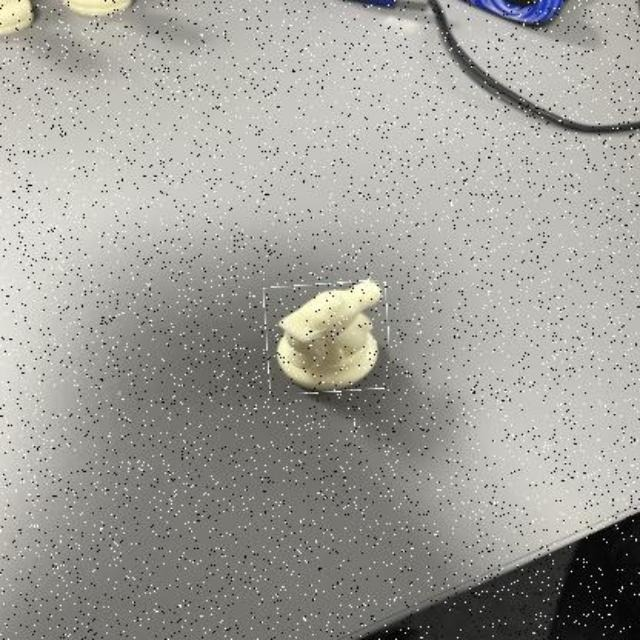white-knight: (265, 282, 389, 394)
